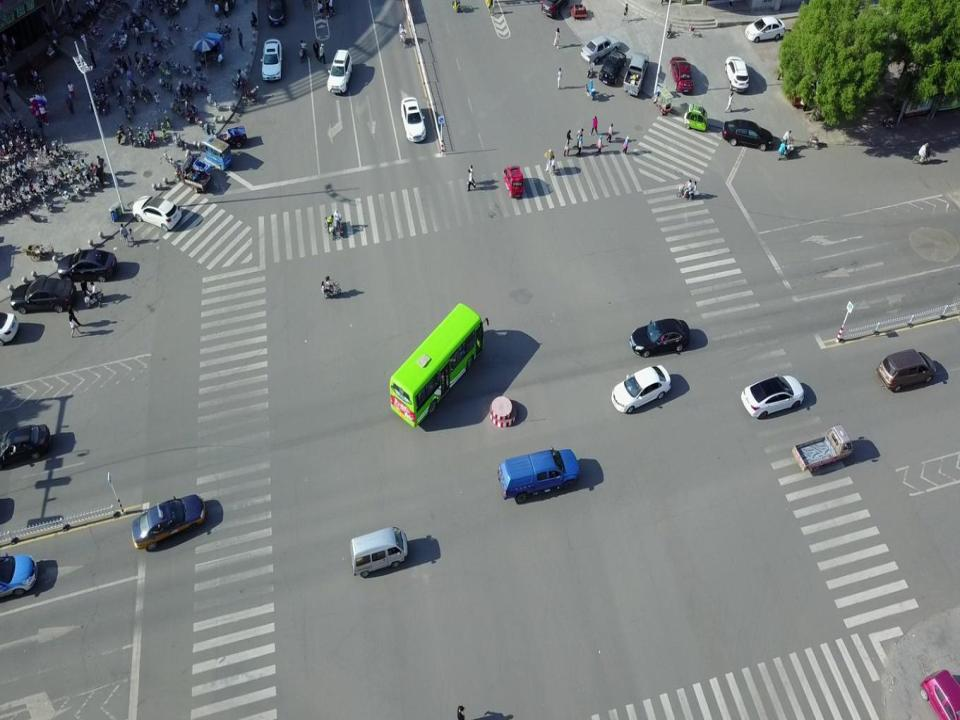bus: (390, 302, 488, 428)
car: (132, 492, 206, 552), (741, 372, 804, 419), (610, 364, 670, 413), (876, 347, 937, 391), (629, 317, 690, 357), (10, 277, 76, 313), (0, 424, 49, 470), (57, 248, 117, 284), (920, 669, 960, 720), (132, 195, 181, 232), (0, 552, 37, 600), (722, 118, 772, 152), (622, 51, 648, 96), (400, 97, 426, 142), (580, 34, 620, 63), (327, 49, 352, 92), (745, 16, 785, 42), (599, 49, 626, 85), (260, 39, 283, 81), (669, 56, 694, 93), (724, 56, 749, 92), (541, 0, 569, 17), (267, 0, 286, 25), (335, 216, 343, 236)
van: (498, 446, 580, 505), (351, 525, 408, 578)
